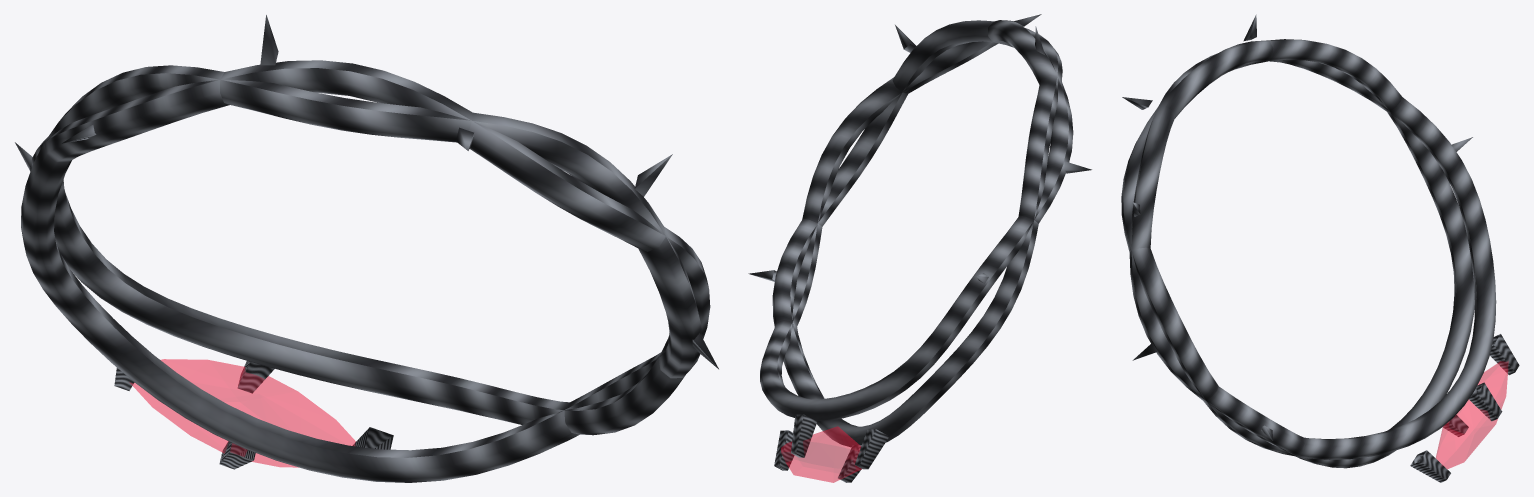
Rendered from nyx-thorn.glb.
The picture shows the model from 3 angles, left to right: view 1: azimuth 30°, elevation 25°; view 2: azimuth 150°, elevation 25°; view 3: azimuth 270°, elevation 25°; orthographic projection. The views are drawn at different scales.
Parts seen in each view (by area): view 1: Nyx_ThornVines, Nyx_MarquiseGarnet, Nyx_MicroProngs; view 2: Nyx_ThornVines, Nyx_MarquiseGarnet, Nyx_MicroProngs; view 3: Nyx_ThornVines, Nyx_MarquiseGarnet, Nyx_MicroProngs.
Boxes of the visible parts, x1=… form: Nyx_ThornVines: x1=15, y1=15, x2=718, y2=482; Nyx_MarquiseGarnet: x1=130, y1=359, x2=355, y2=467; Nyx_MicroProngs: x1=114, y1=361, x2=393, y2=469; Nyx_ThornVines: x1=748, y1=14, x2=1091, y2=447; Nyx_MarquiseGarnet: x1=781, y1=426, x2=861, y2=482; Nyx_MicroProngs: x1=774, y1=414, x2=889, y2=482; Nyx_ThornVines: x1=1121, y1=14, x2=1496, y2=468; Nyx_MarquiseGarnet: x1=1436, y1=361, x2=1508, y2=469; Nyx_MicroProngs: x1=1410, y1=334, x2=1519, y2=482.
Size of the model in its own units: 1.62 by 1.7 by 1.55.
2 materials, 1 textured.
